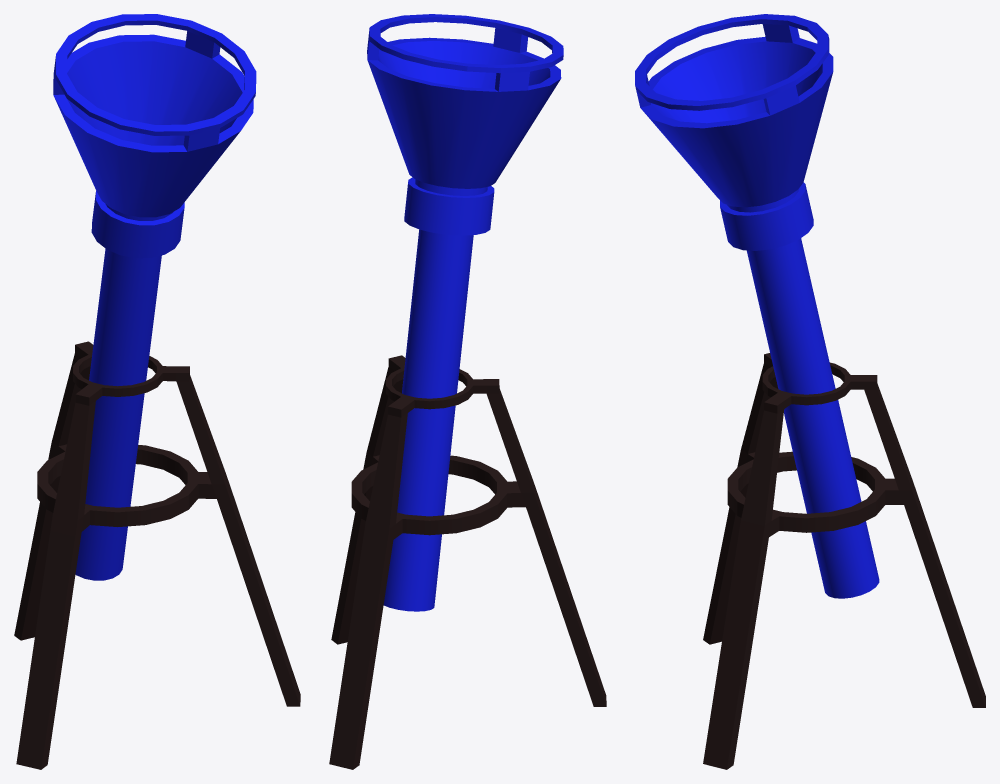
File: Standard light.FBX
The picture shows the model from 3 angles, left to right: view 1: azimuth 30°, elevation 25°; view 2: azimuth 150°, elevation 25°; view 3: azimuth 270°, elevation 25°; orthographic projection. The views are drawn at different scales.
Parts seen in each view (by area): view 1: Top_light, Bottom_light; view 2: Top_light, Bottom_light; view 3: Top_light, Bottom_light.
Part boxes in pixels (x1,y1,x2,y2): Top_light: [53, 14, 256, 580]; Bottom_light: [14, 341, 300, 769]; Top_light: [367, 14, 563, 611]; Bottom_light: [329, 355, 606, 769]; Top_light: [635, 14, 879, 598]; Bottom_light: [703, 353, 985, 769].
Bounding box in the file's own units: 0.7237 × 1.64 × 0.7884.
